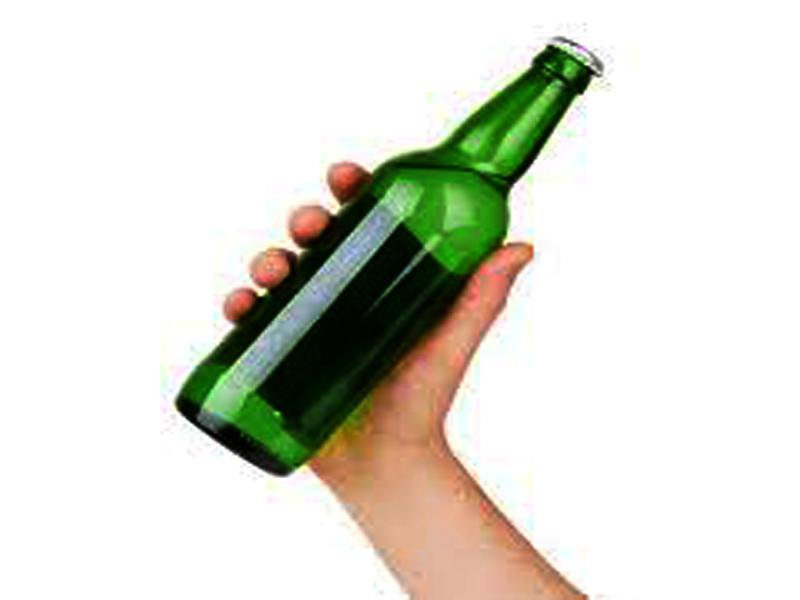Beer: (180, 43, 603, 483)
